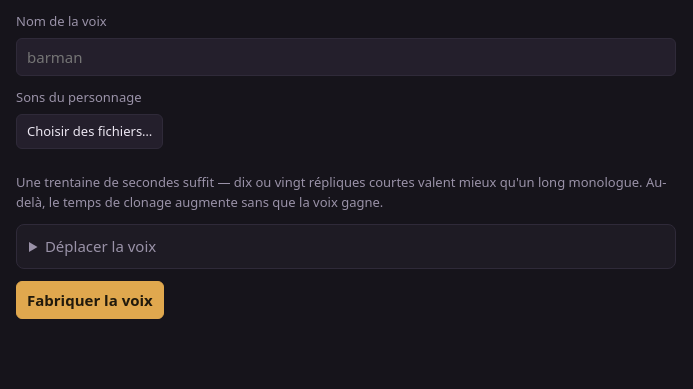
Test case: choix des sons › passe par le selecteur de Rust, qui seul rend de vrais chemins
Click the button "Choisir des fichiers…" at (90, 131), box top-left (16, 114), bottom-right (163, 149)
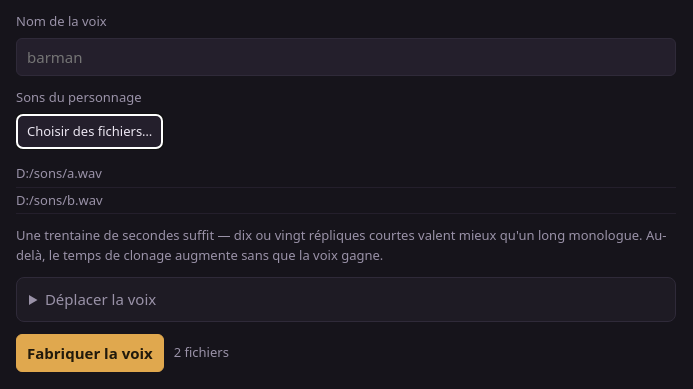
expect the text "2 fichiers" is shown: met, box top-left (174, 343), bottom-right (229, 362)
expect the list item "D:/sons/a.wav" is shown: met, box top-left (16, 161), bottom-right (676, 188)
expect the list item "D:/sons/b.wav" is shown: met, box top-left (16, 188), bottom-right (676, 214)
